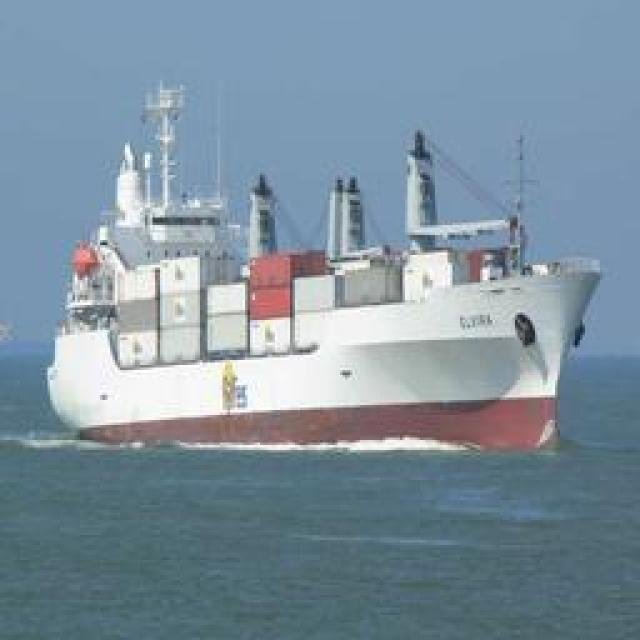ship2: (45, 77, 603, 451)
